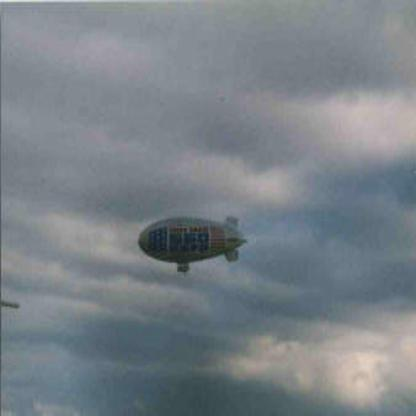Airship: (137, 210, 254, 283)
